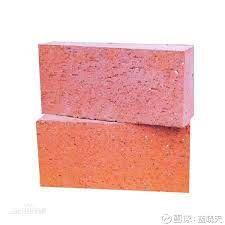brick: (34, 40, 197, 129), (30, 113, 194, 196)
